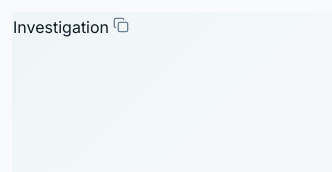
Test: CopyButton › confirms visibly once copied
Click the button named "copy investigation" at (121, 25), box [109,13,133,37]
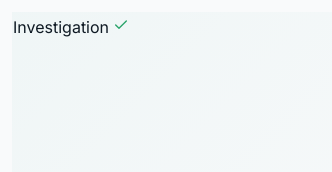
Check: the button named "investigation copied" is shown, box [109,13,133,37]
